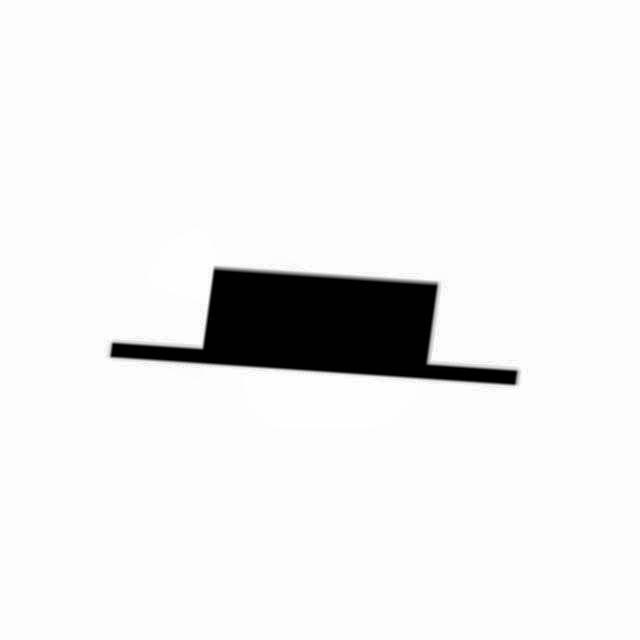Half-rest: (71, 248, 561, 412)
